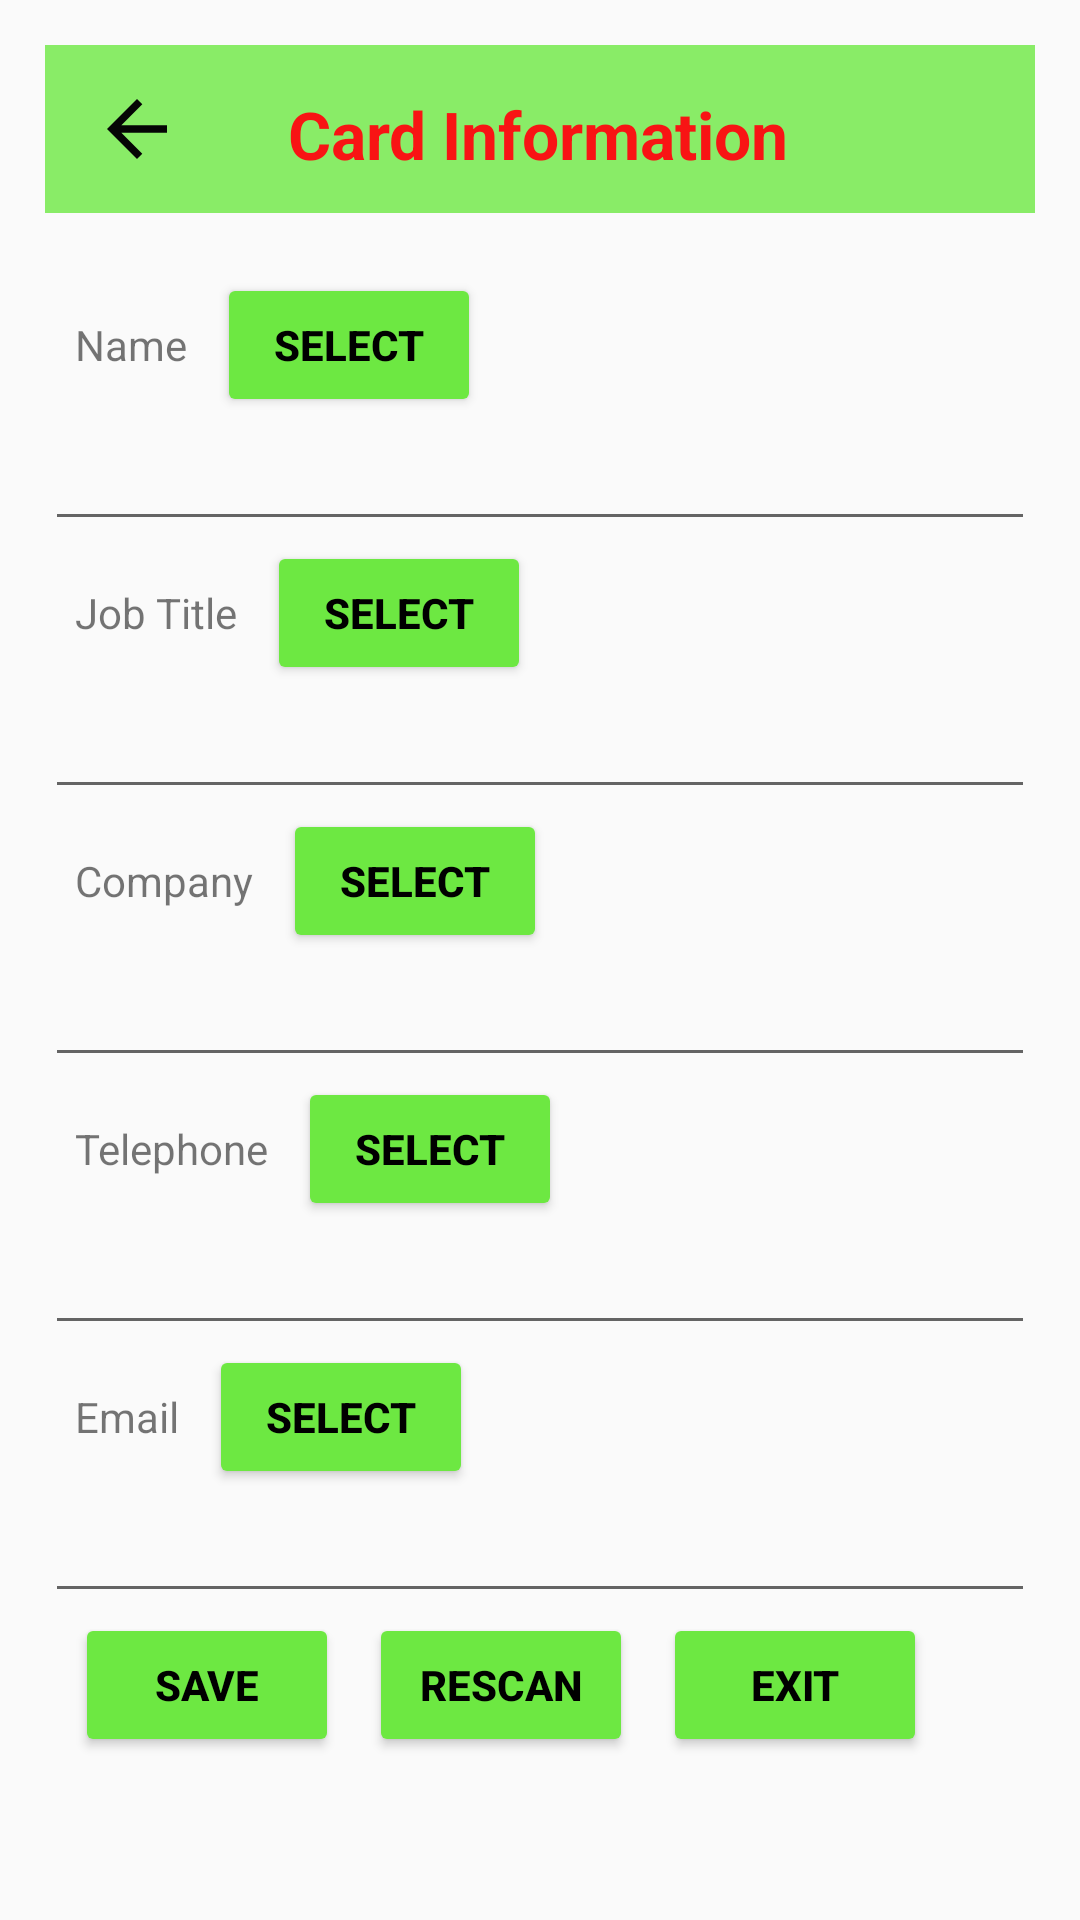

Icons on this 1080*1920 Android screen, each with the point to tap as (x=x, y=y):
back arrow: (x=136, y=129)
